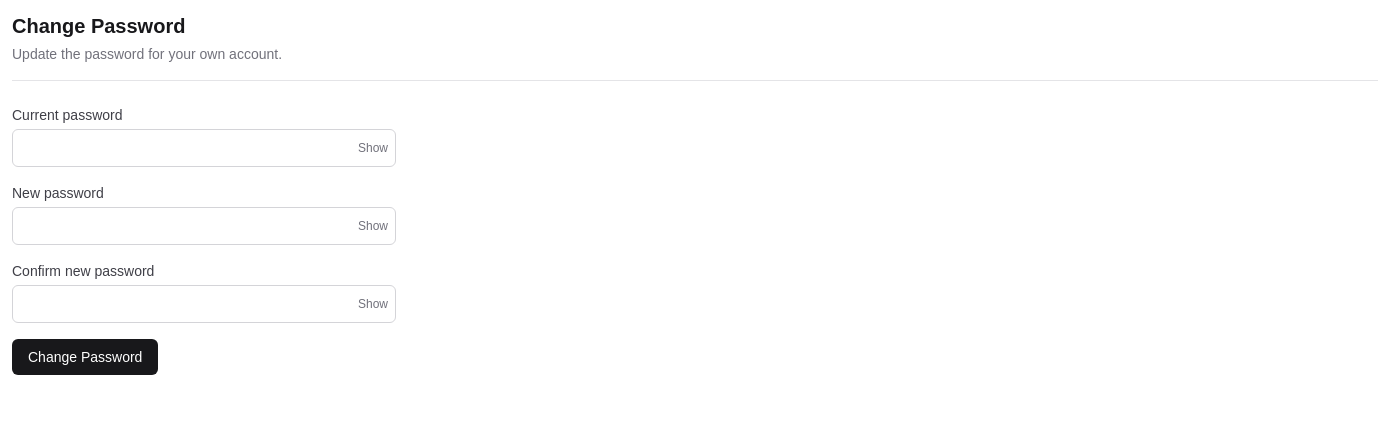
Test: ChangePasswordPage › shows the backend's error message when the current password is wrong
Type "wrongpassword" into the password field labelled "Current password".
click(204, 148); type("wrongpassword")  # box [12, 129, 396, 167]
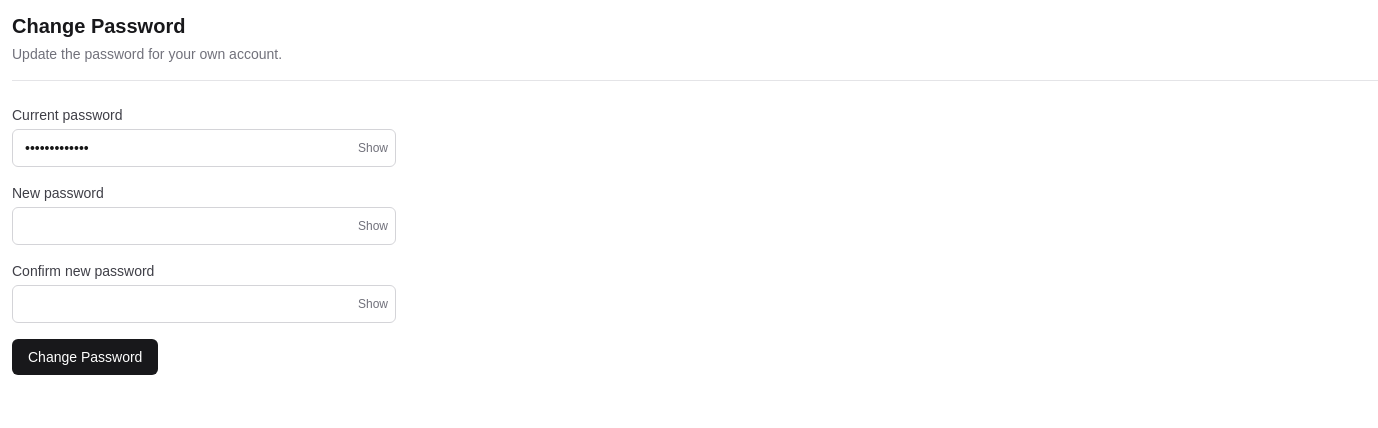
Type "newpassword1" into the password field labelled "New password".
click(204, 226); type("newpassword1")  # box [12, 207, 396, 245]
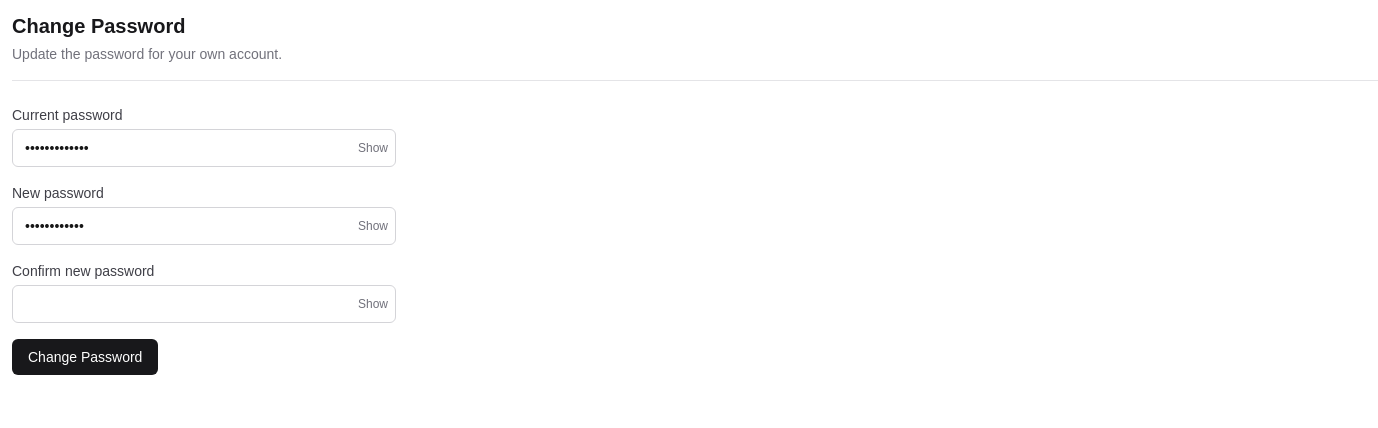
Type "newpassword1" into the password field labelled "Confirm new password".
click(204, 304); type("newpassword1")  # box [12, 285, 396, 323]
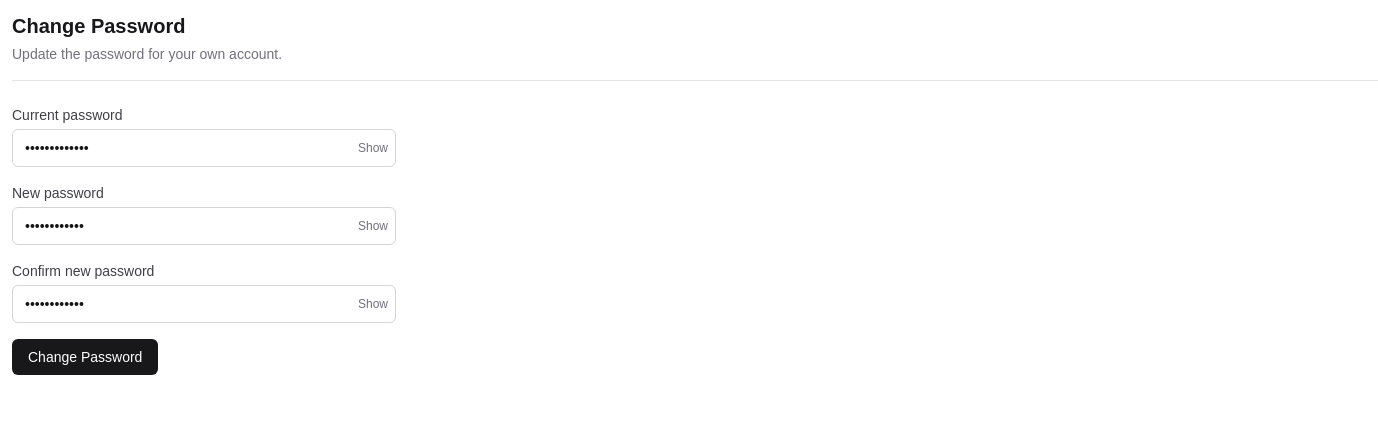
Click the button "Change Password".
click(85, 357)  # box [12, 339, 158, 375]
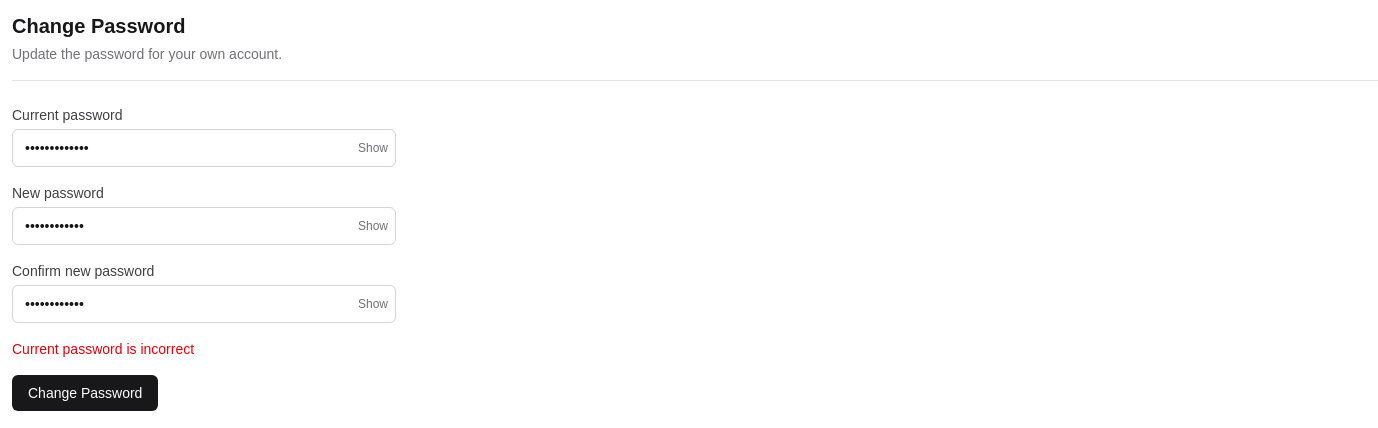
Now the text "Current password is incorrect" is shown, box [12, 341, 194, 357]
